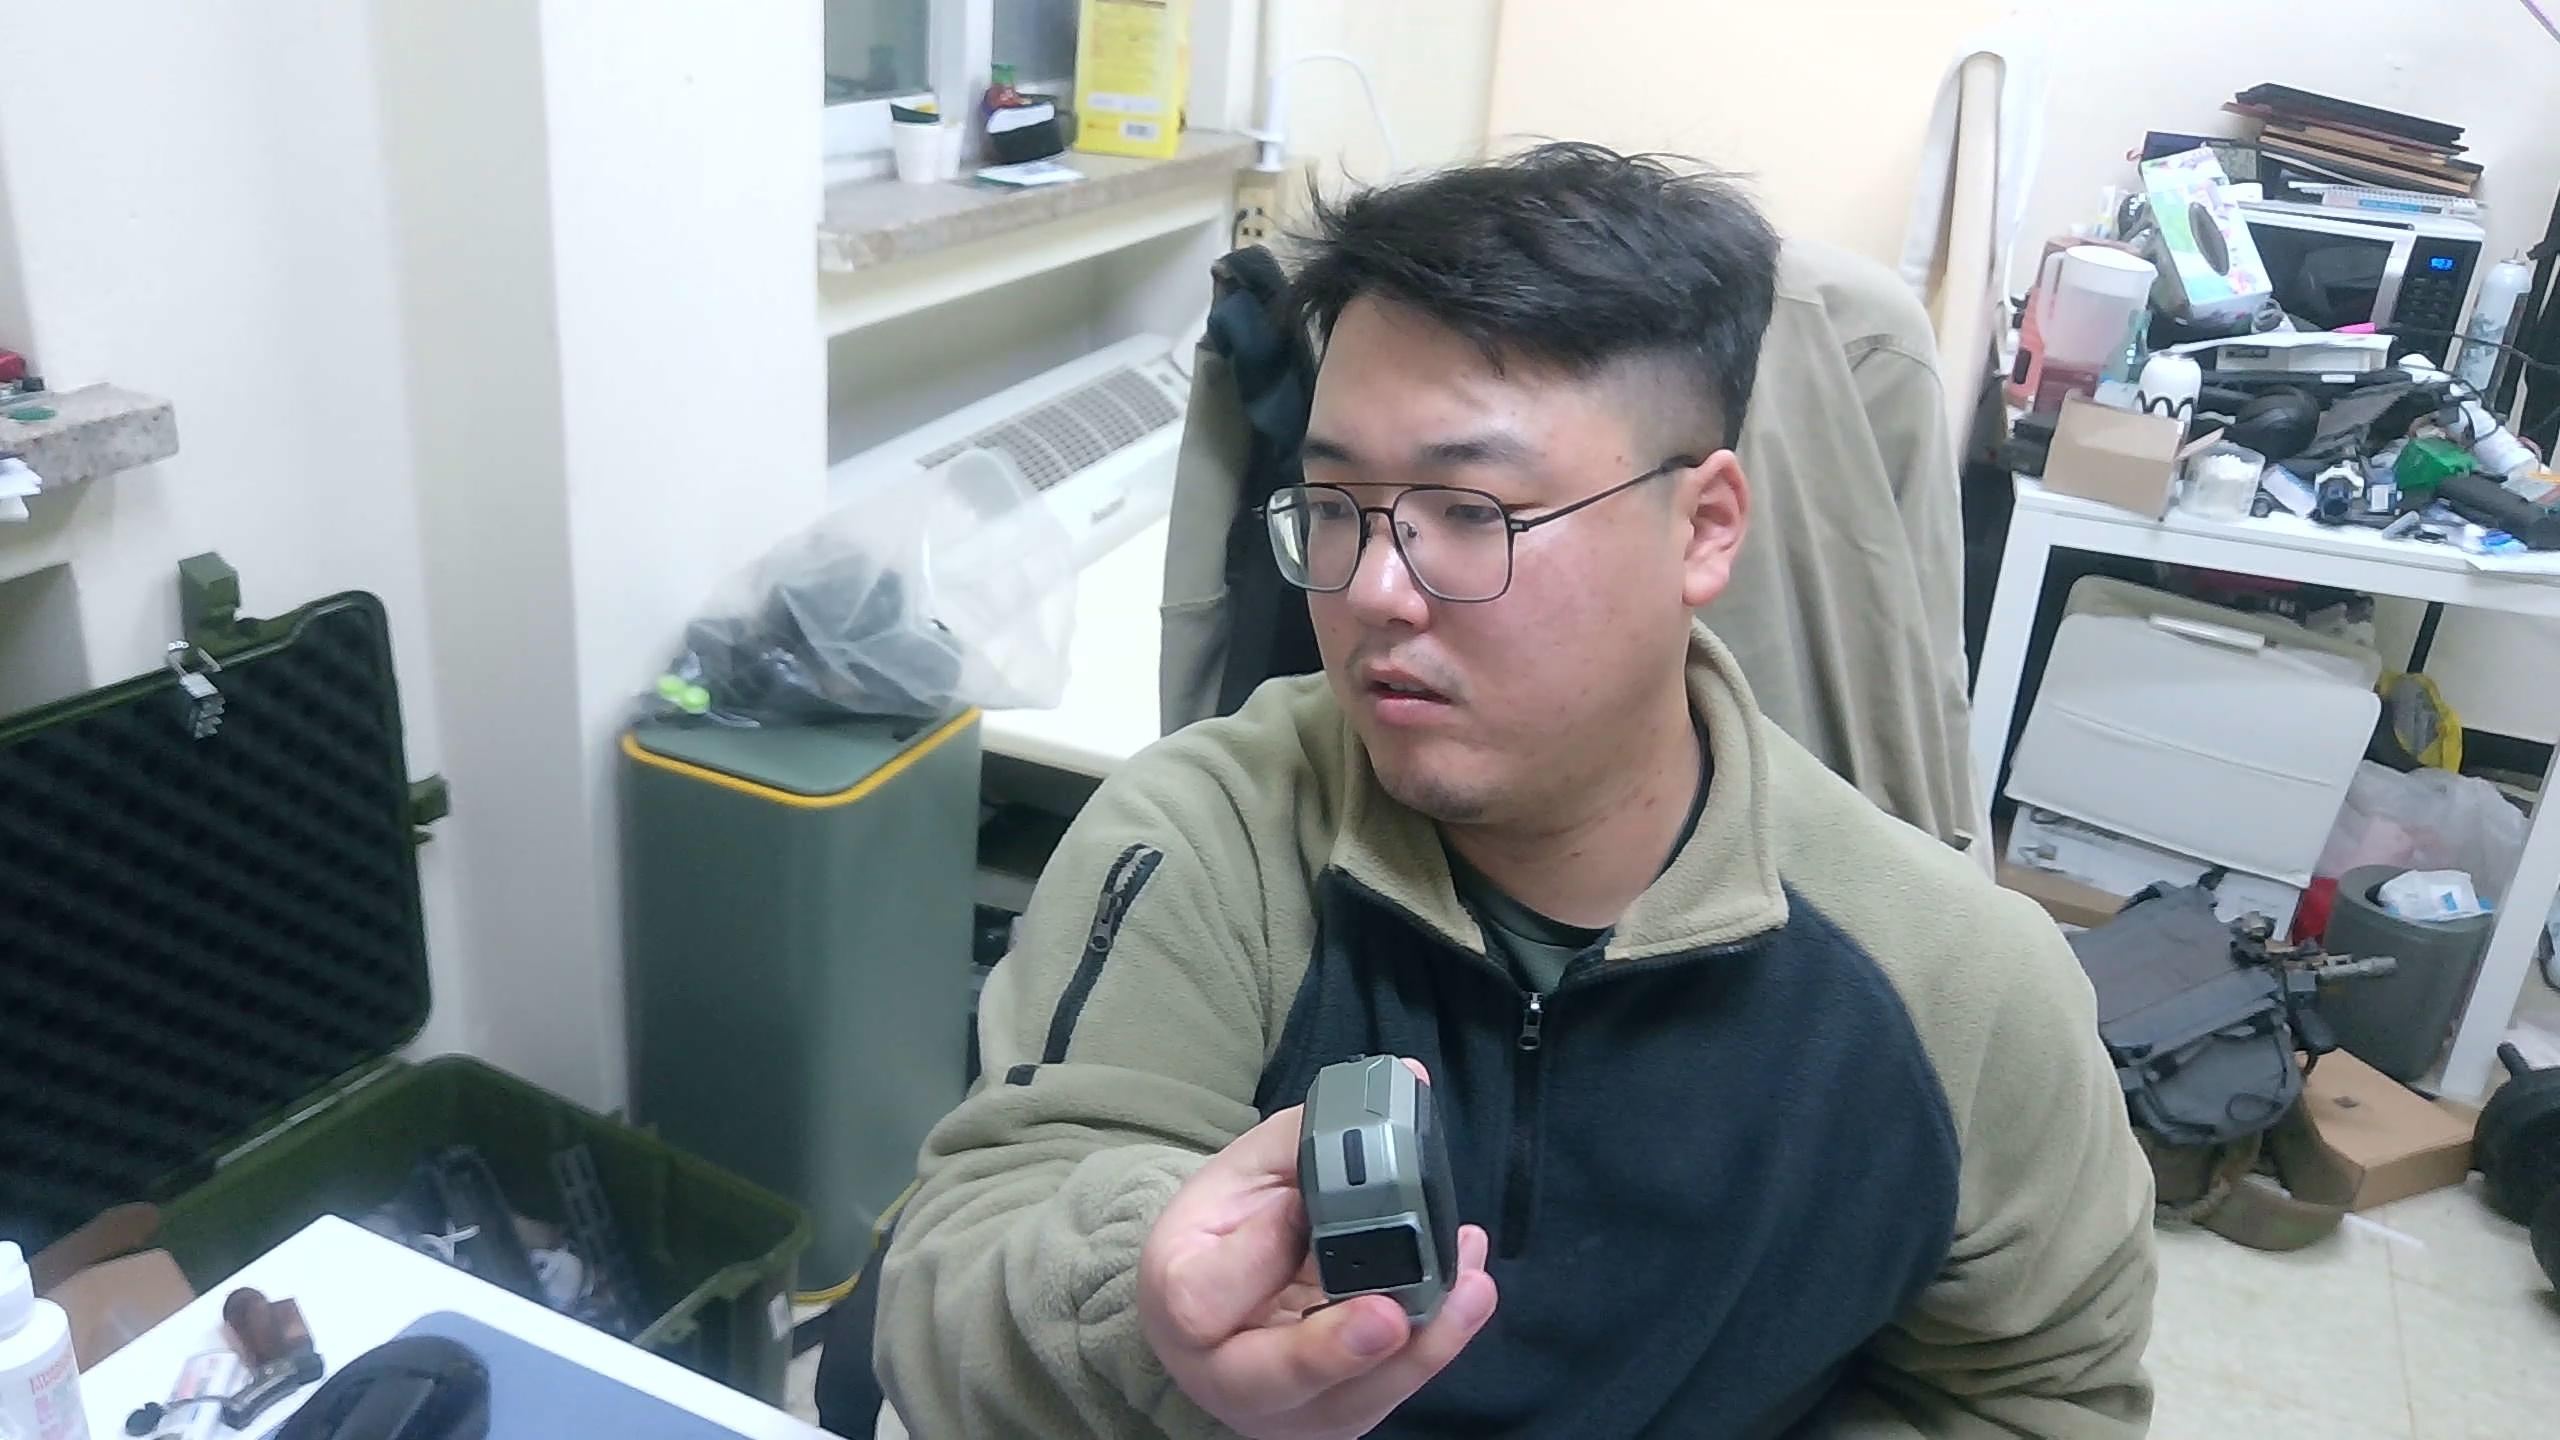blue_pliers: (1296, 1050, 1463, 1329)
